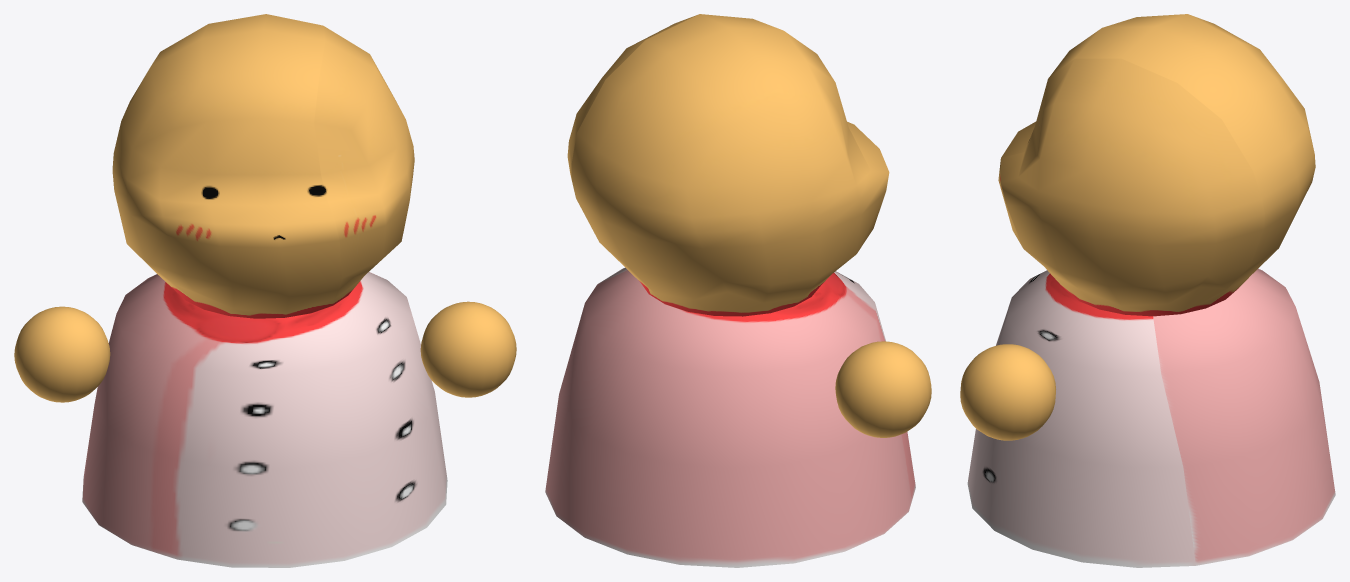
File: characterred.obj
3 views of the same model, side by side, from view 1: azimuth 30°, elevation 25°; view 2: azimuth 150°, elevation 25°; view 3: azimuth 270°, elevation 25° (orthographic).
Parts seen in each view (by area): view 1: polySurface4 polySurface7, polySurface5 polySurface4, polySurface4 polySurface6; view 2: polySurface4 polySurface7, polySurface4 polySurface6; view 3: polySurface4 polySurface7, polySurface5 polySurface4.
Part boxes in pixels (bbox=[...]): polySurface4 polySurface7: bbox=[82, 14, 447, 567]; polySurface5 polySurface4: bbox=[420, 301, 516, 397]; polySurface4 polySurface6: bbox=[14, 306, 110, 402]; polySurface4 polySurface7: bbox=[545, 14, 915, 567]; polySurface4 polySurface6: bbox=[835, 341, 931, 437]; polySurface4 polySurface7: bbox=[967, 14, 1335, 567]; polySurface5 polySurface4: bbox=[960, 344, 1055, 440].
Size of the model in its own units: 2.04 by 2.28 by 1.68.
3 materials, 3 textured.
